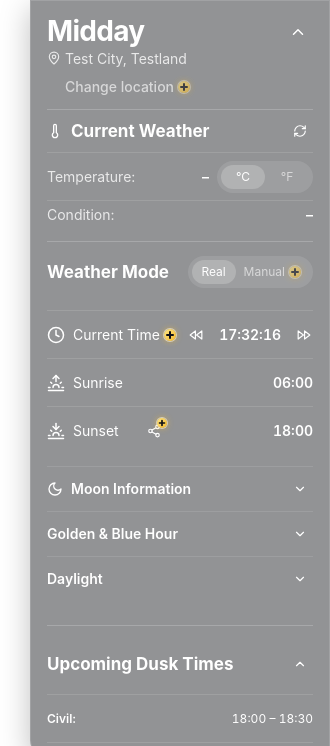
Test: InfoPanel › coordinates and weather update time (ROADMAP item 25) › hides the coordinates once a place name is known, and shows them again in the "Change location" form
Expected: the text "Test City, Testland" is shown, x1=65 y1=49 x2=190 y2=69
Expected: the text "12.3456" is not shown
Click the button "Change location".
click(128, 87)  # box x1=65 y1=77 x2=190 y2=97
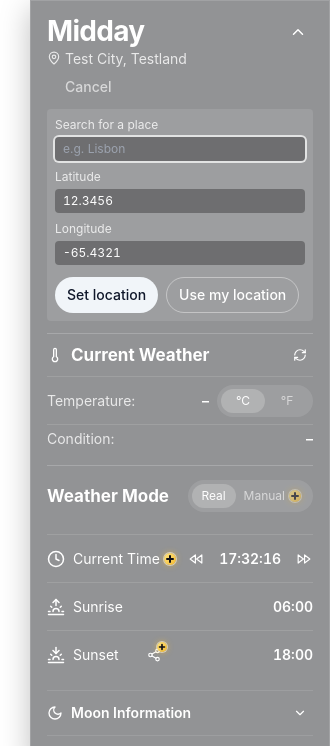
Expected: the number field labelled "Latitude" holds "12.3456", x1=55 y1=189 x2=305 y2=213
Expected: the number field labelled "Longitude" holds "-65.4321", x1=55 y1=241 x2=305 y2=265
